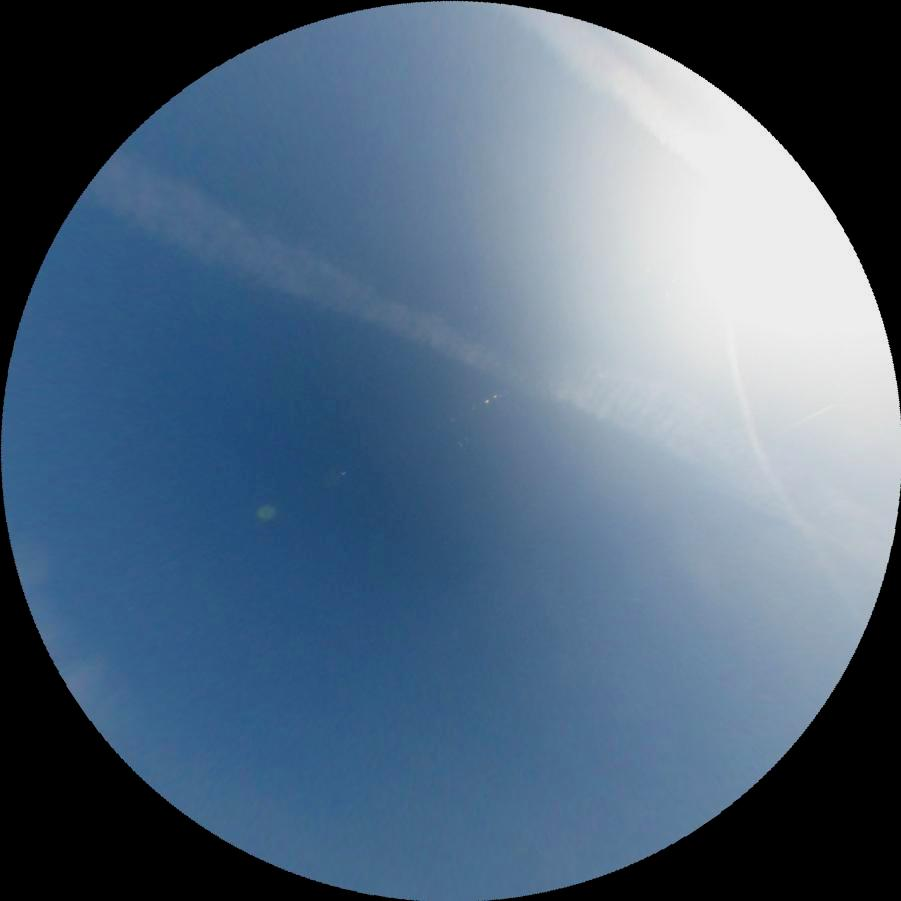contrail old: (700, 319, 868, 645)
contrail veryold: (83, 128, 901, 569), (504, 0, 727, 181)
contrail young: (779, 400, 839, 432)
sun: (678, 157, 856, 327)
